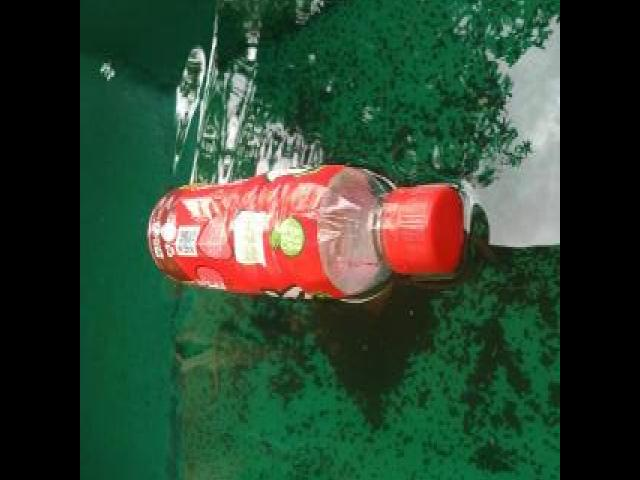Bottle: (142, 155, 472, 313)
